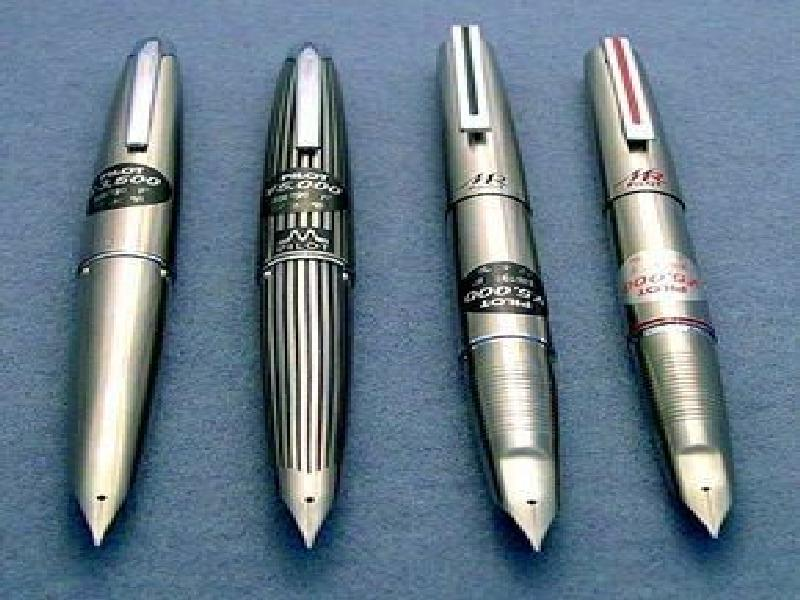pen: (577, 20, 745, 565), (422, 20, 573, 563), (65, 28, 194, 553), (253, 28, 369, 562)
